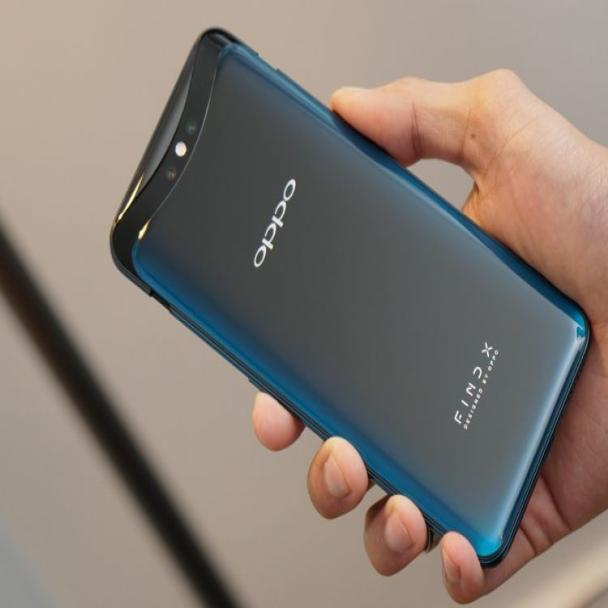Handphone: (103, 19, 592, 576)
